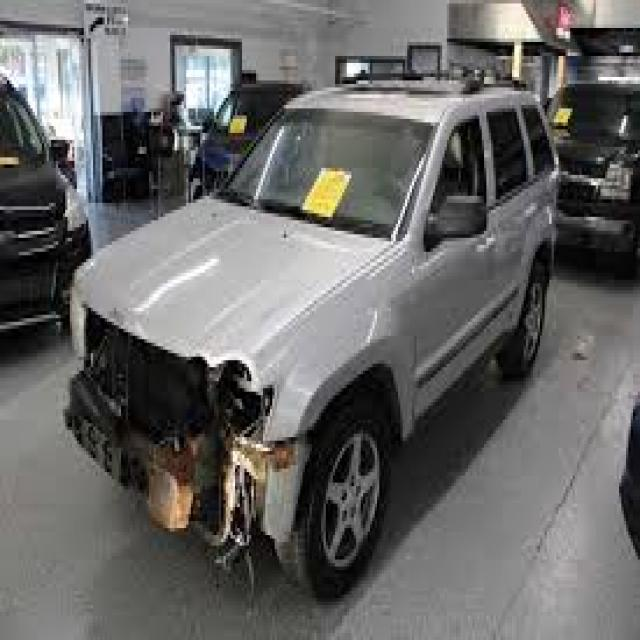severe: (72, 279, 356, 568)
